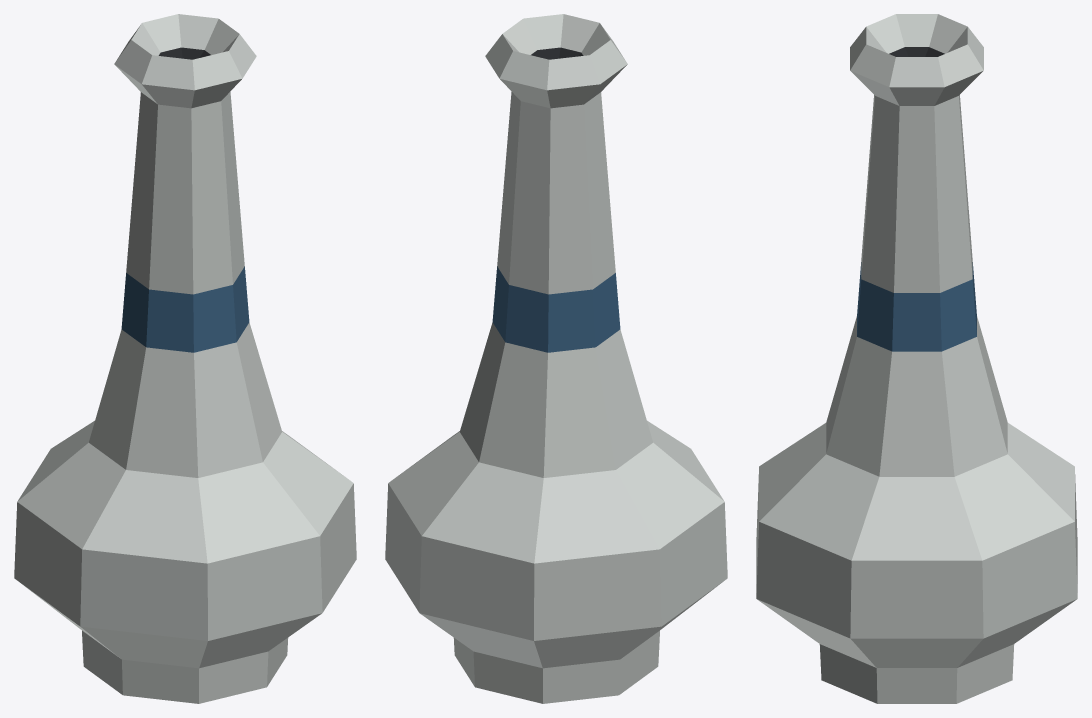
Rendered from SM_Prop_Vase_02.fbx.
3 views of the same model, side by side, from view 1: azimuth 30°, elevation 25°; view 2: azimuth 150°, elevation 25°; view 3: azimuth 270°, elevation 25° (orthographic).
Parts seen in each view (by area): view 1: SM_Prop_Vase_02; view 2: SM_Prop_Vase_02; view 3: SM_Prop_Vase_02.
Boxes of the visible parts, x1,y1,x2,y2 form: SM_Prop_Vase_02: (14,14,356,703); SM_Prop_Vase_02: (385,14,727,703); SM_Prop_Vase_02: (756,14,1077,703).
Bounding box in the file's own units: 38.99 × 84.07 × 38.99.
